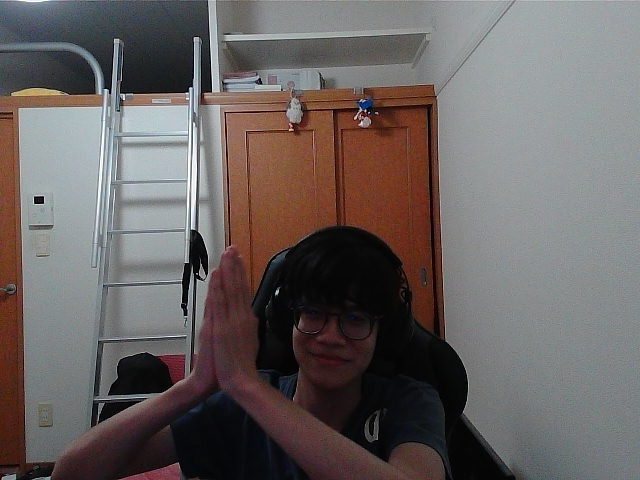pray: (214, 266, 255, 369)
